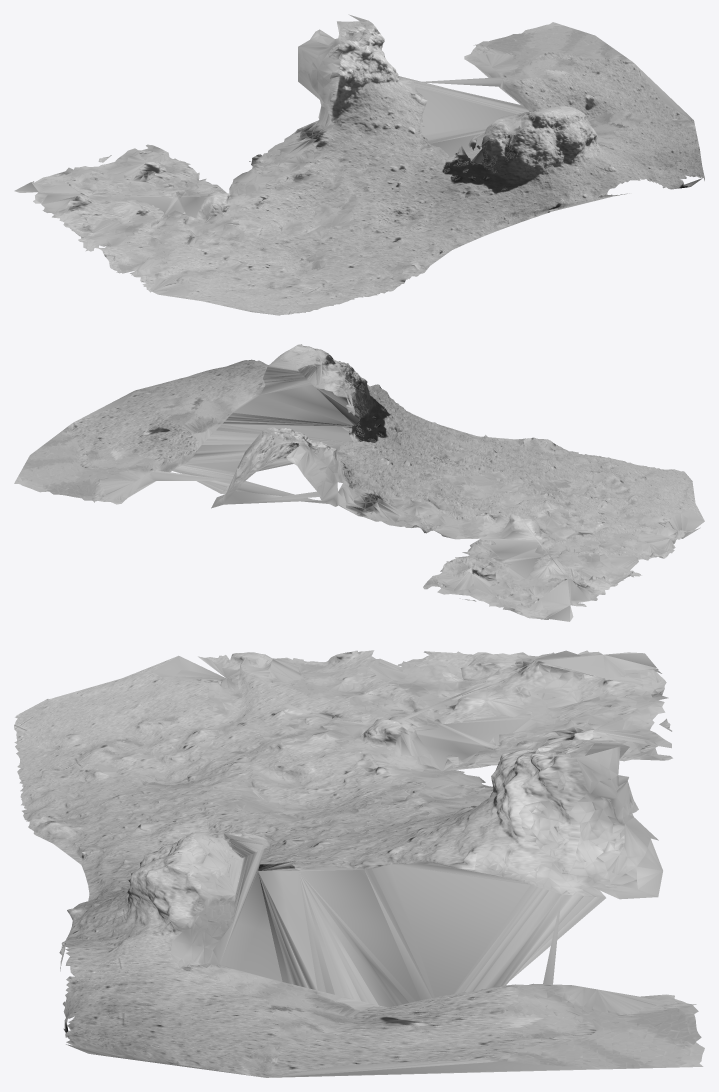
The picture shows the model from 3 angles, top to bottom: view 1: azimuth 30°, elevation 25°; view 2: azimuth 150°, elevation 25°; view 3: azimuth 270°, elevation 25°; orthographic projection. The views are drawn at different scales.
Visible parts, largest first — view 1: Stereo textured mesh; view 2: Stereo textured mesh; view 3: Stereo textured mesh.
Part boxes in pixels (x1,y1,x2,y2): Stereo textured mesh: [14, 14, 704, 315]; Stereo textured mesh: [14, 344, 704, 621]; Stereo textured mesh: [14, 650, 704, 1077].
Bounding box in the file's own units: 1000 × 188 × 637.
1 material, 1 textured.
